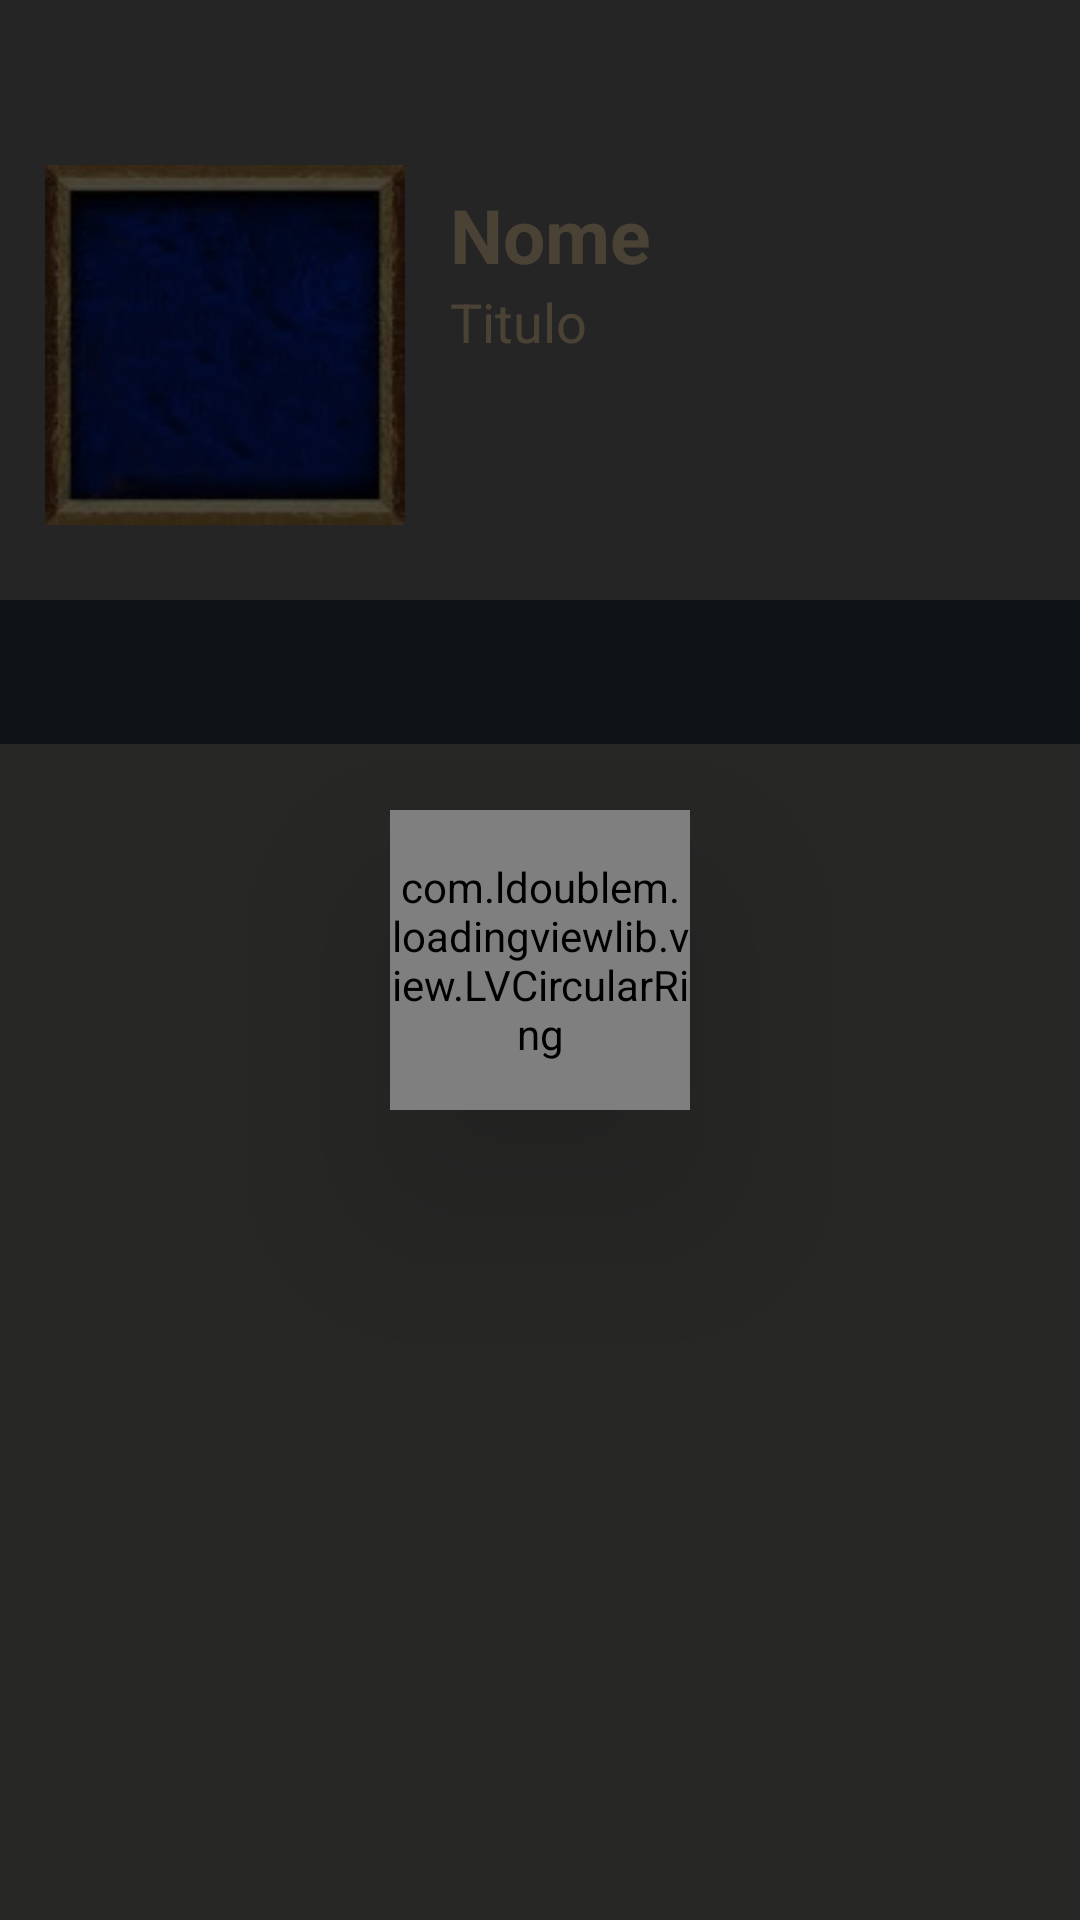

Locate icon controls on the screen. Image size 1080*1920, boxes as (x1, y1, x2, y2).
retrato: (45, 165, 405, 519)
